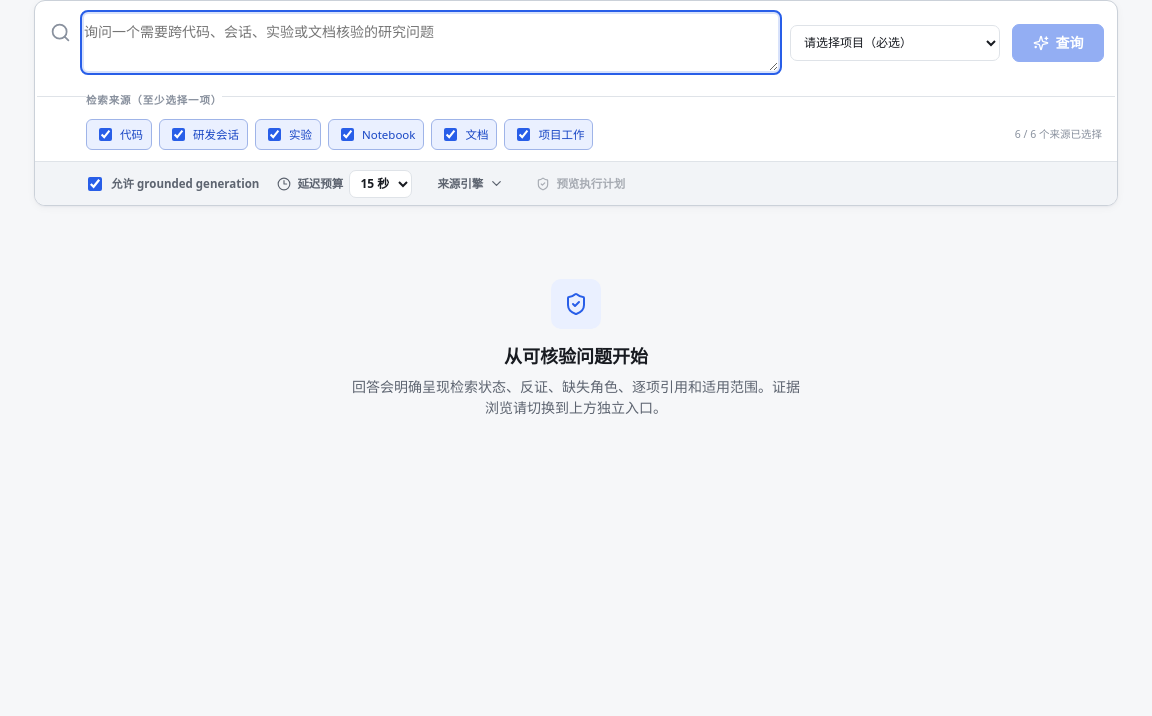
it: TrustedQueryPanel › renders a partial response without upgrading it to grounded
Select "Evidence RAG" in the dropdown named "可信查询项目" at (895, 43), box [790,25,1000,61]
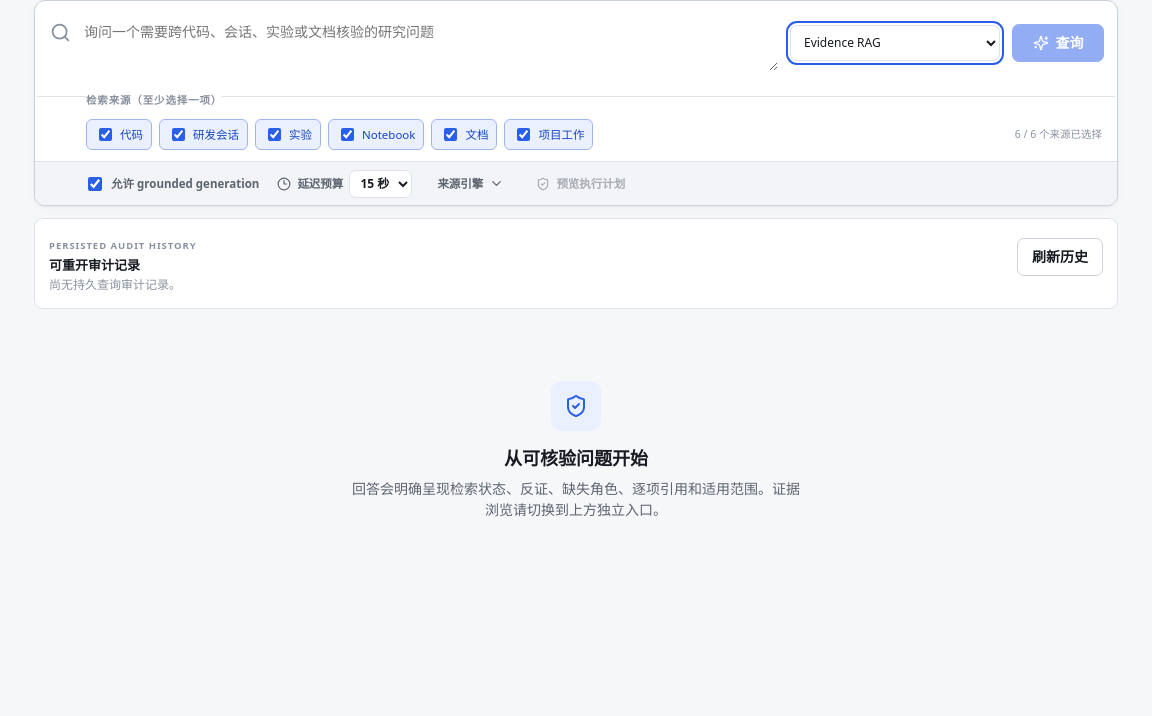
Type "Compare the evidence." into the text box named "可信查询问题" at (431, 43), box [84,14,778,71]
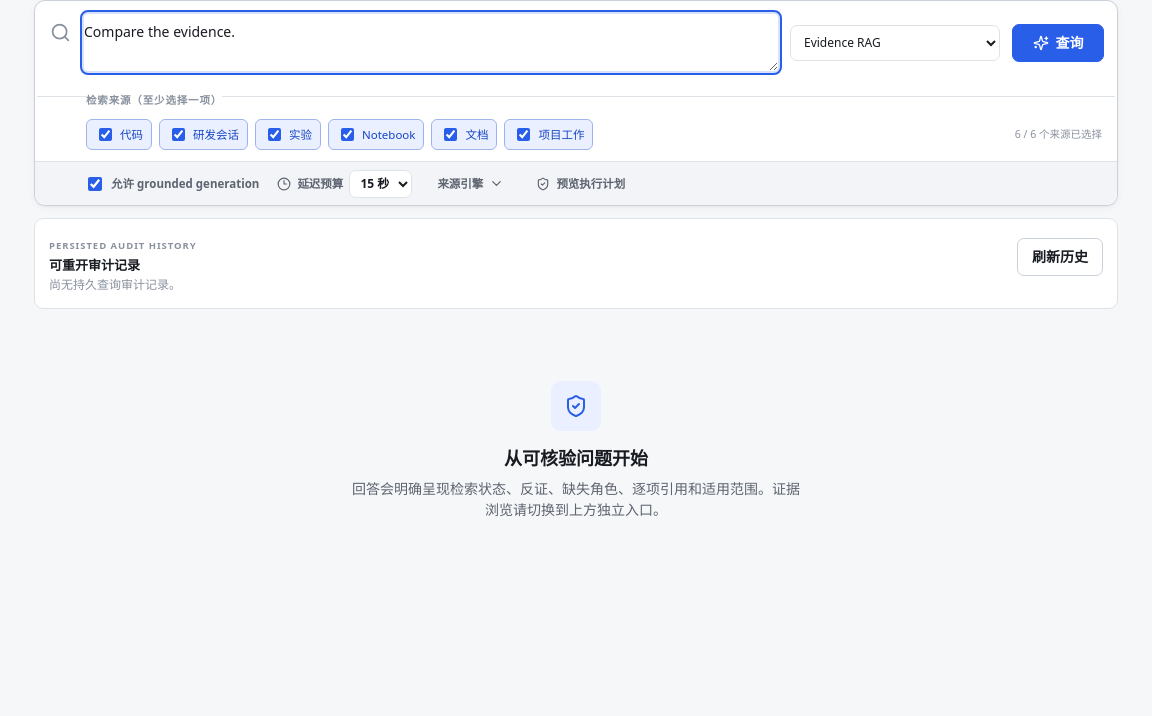
Click the button "查询" at (1058, 43), box [1012,24,1104,62]
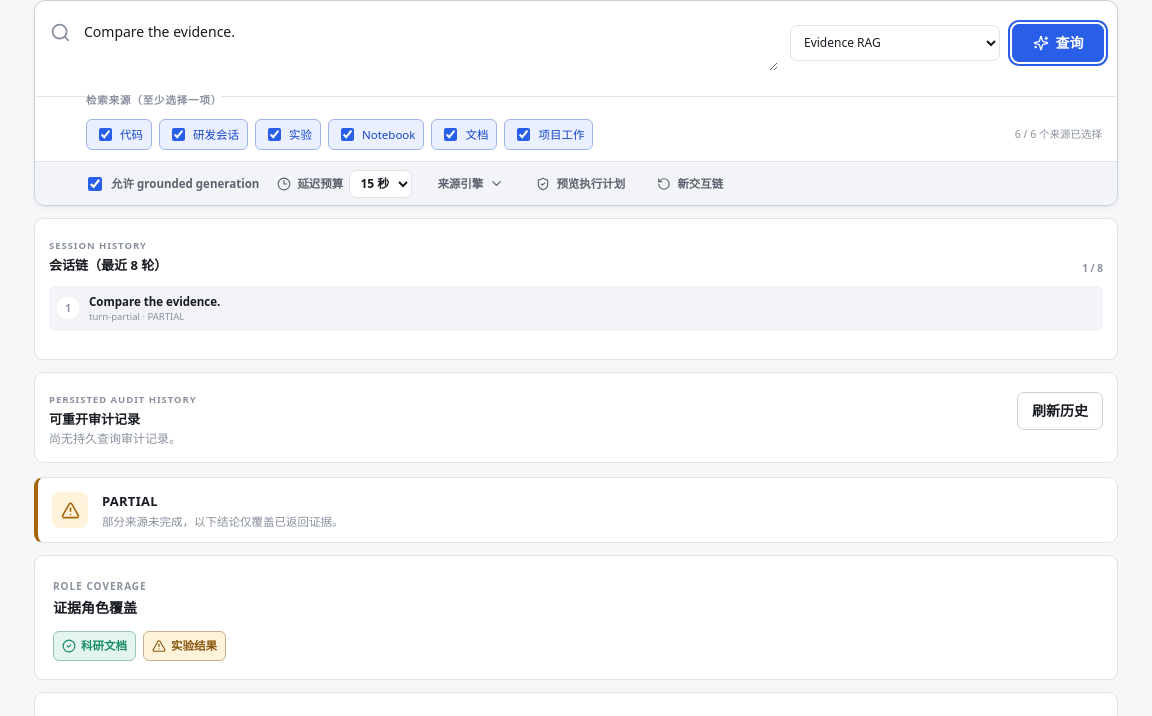
Expected: the text "PARTIAL" is shown, [102,492,158,510]
Expected: the text "实验结果" is shown, [143,631,226,661]
